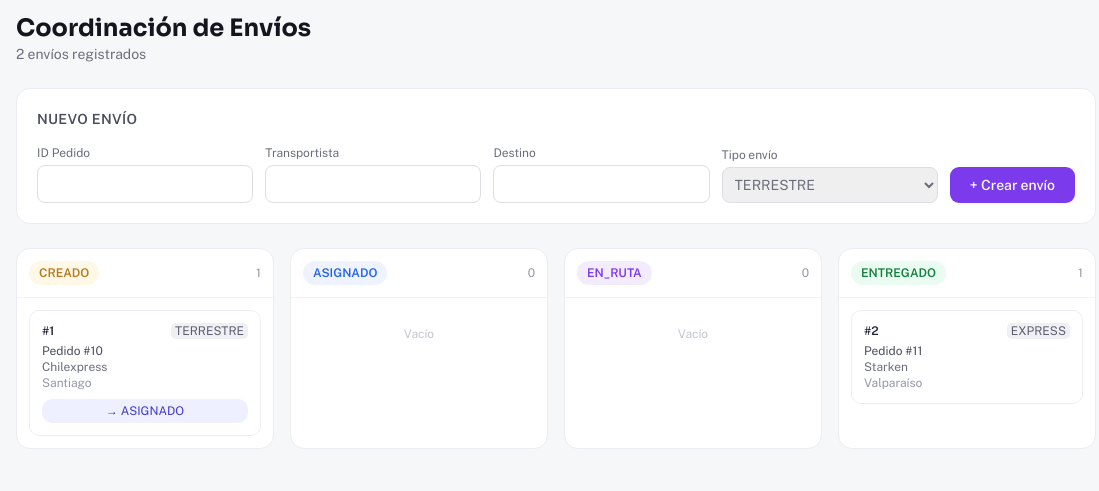
Envios › shows the backend error message when creating an envío fails
Expected: the text "Pedido #10" is shown, [42,344,103,358]
Type "999" into the number field.
click(145, 184); type("999")  # box [37,165,253,203]
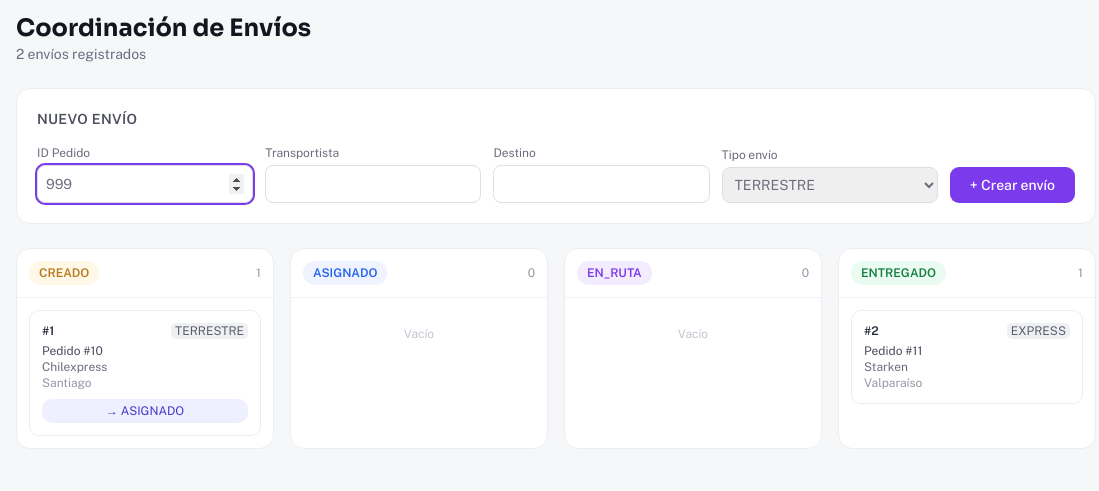
Click the button "+ Crear envío".
click(1012, 185)  # box [950,167,1075,203]
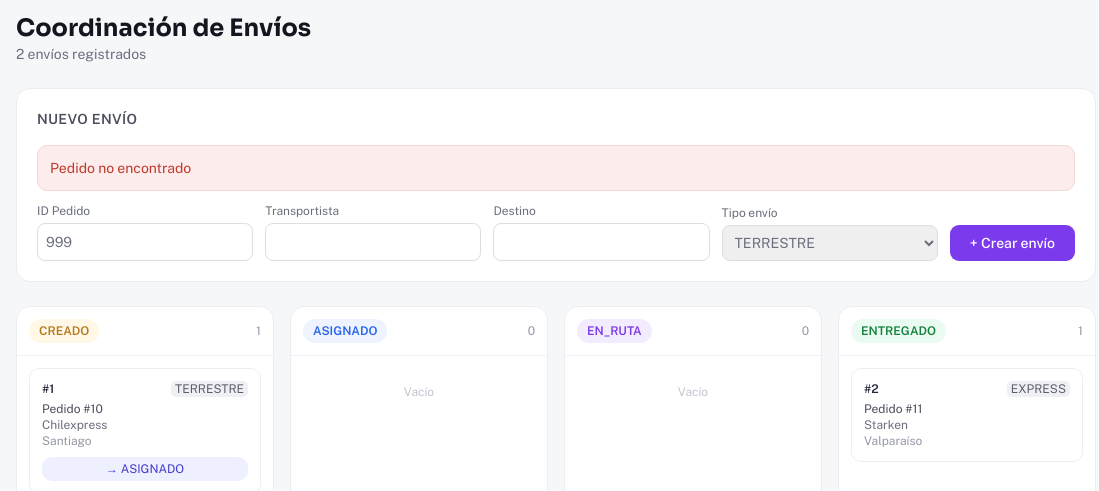
Now the text "Pedido no encontrado" is shown, box [37,145,1075,191]
